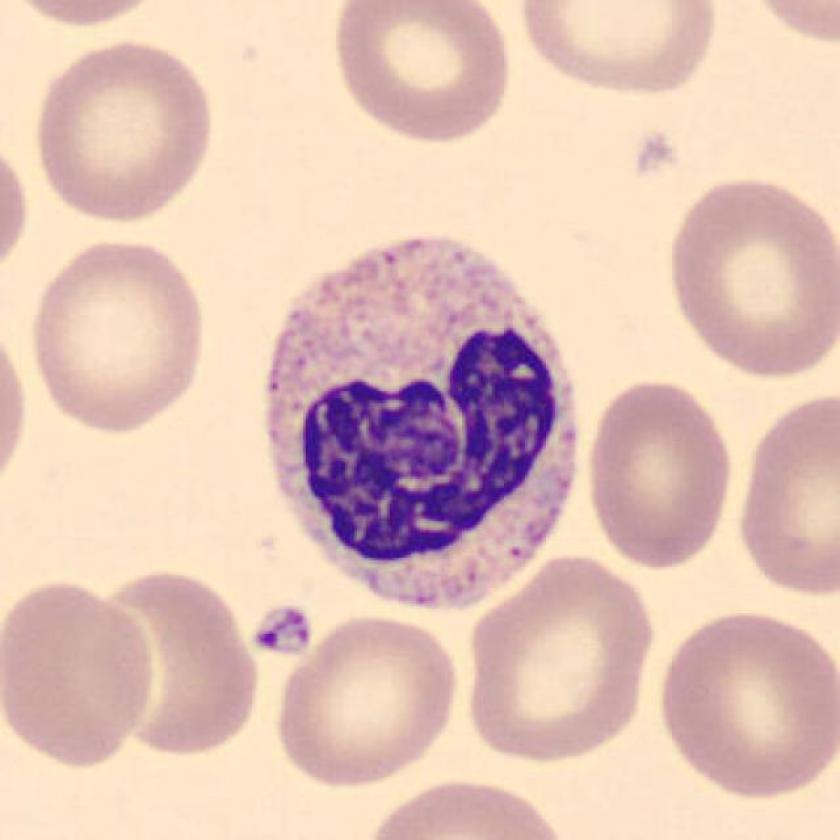neutrophil: (266, 239, 579, 609)
